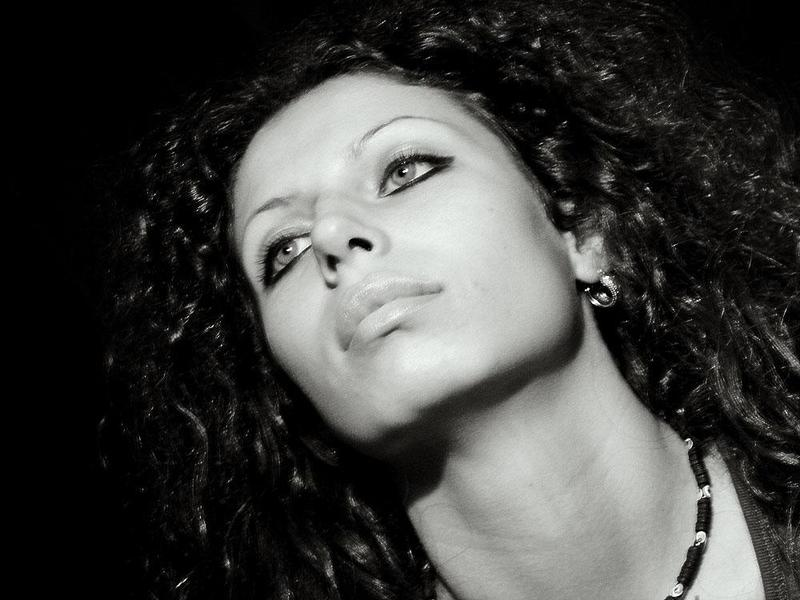person: (127, 12, 798, 600)
